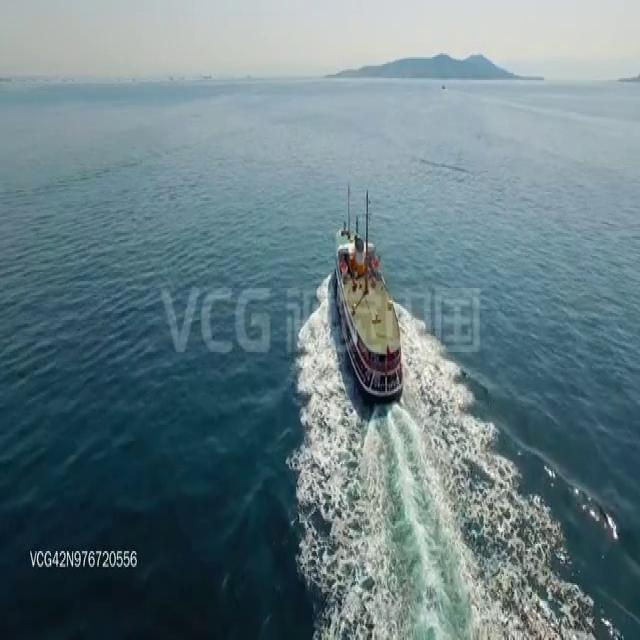passenger ship: (335, 181, 406, 402)
